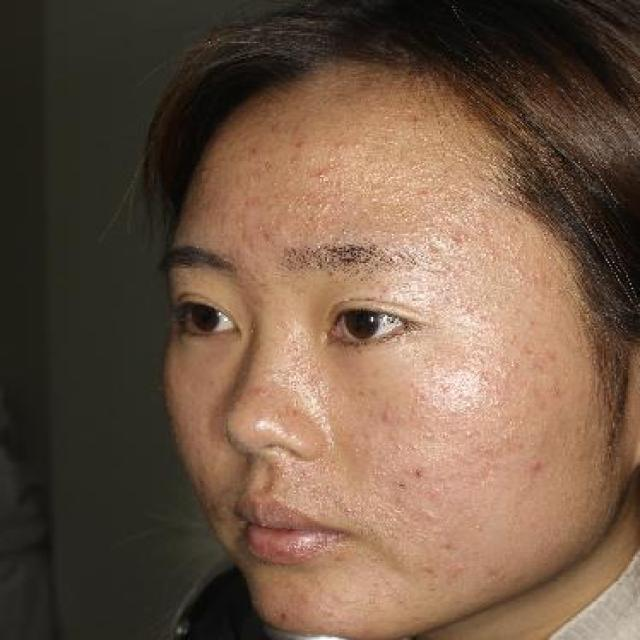nodules: (375, 408, 399, 426), (502, 326, 521, 346), (446, 229, 465, 248), (414, 385, 432, 405), (525, 455, 542, 474), (509, 262, 522, 285), (502, 357, 521, 372), (459, 426, 475, 443), (330, 139, 349, 153), (313, 166, 327, 185), (504, 220, 519, 237), (477, 441, 492, 457), (473, 219, 487, 236), (407, 440, 422, 455), (332, 497, 354, 506), (335, 188, 351, 200), (290, 163, 307, 174), (427, 431, 441, 443), (390, 440, 403, 451), (448, 405, 458, 419), (450, 421, 460, 434), (489, 383, 497, 394)
